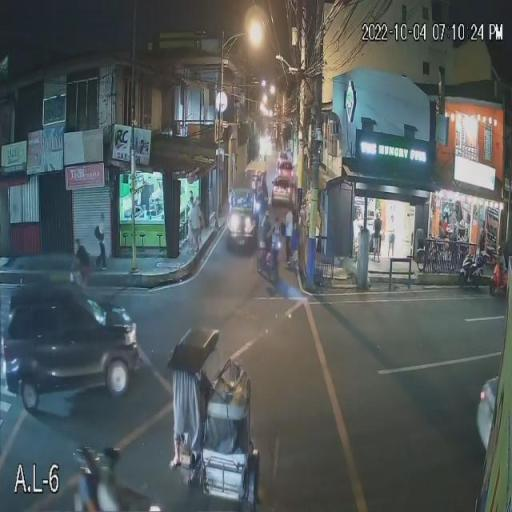helmet: (72, 440, 99, 478), (94, 446, 128, 475)
motorcycle: (64, 488, 170, 512)
rider: (97, 472, 155, 512), (71, 472, 113, 512)
